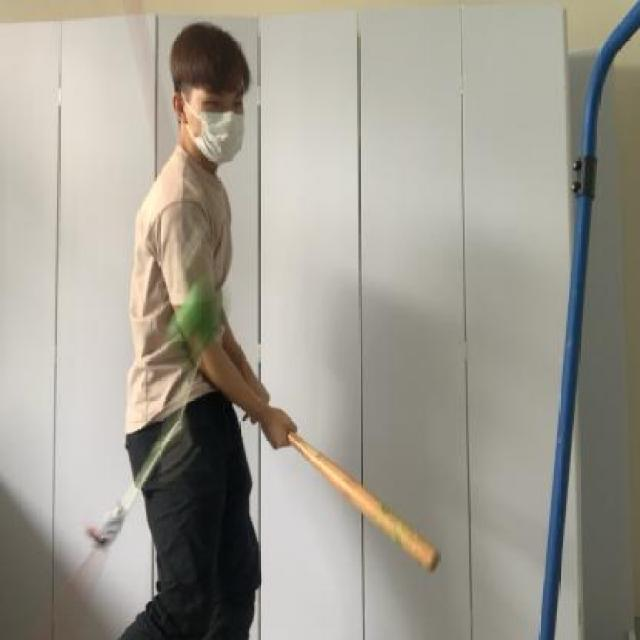baseball: (162, 275, 220, 356)
